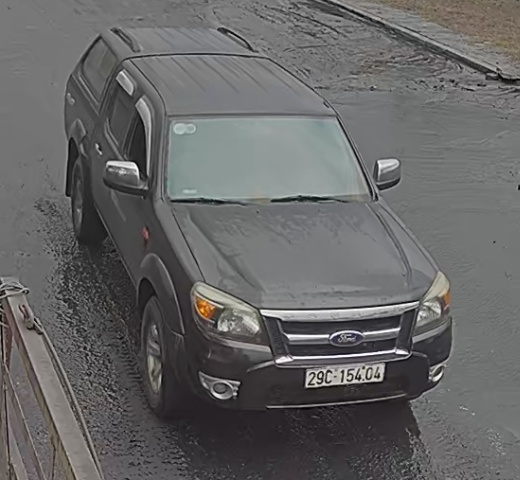vehicle plate: (302, 358, 390, 385)
